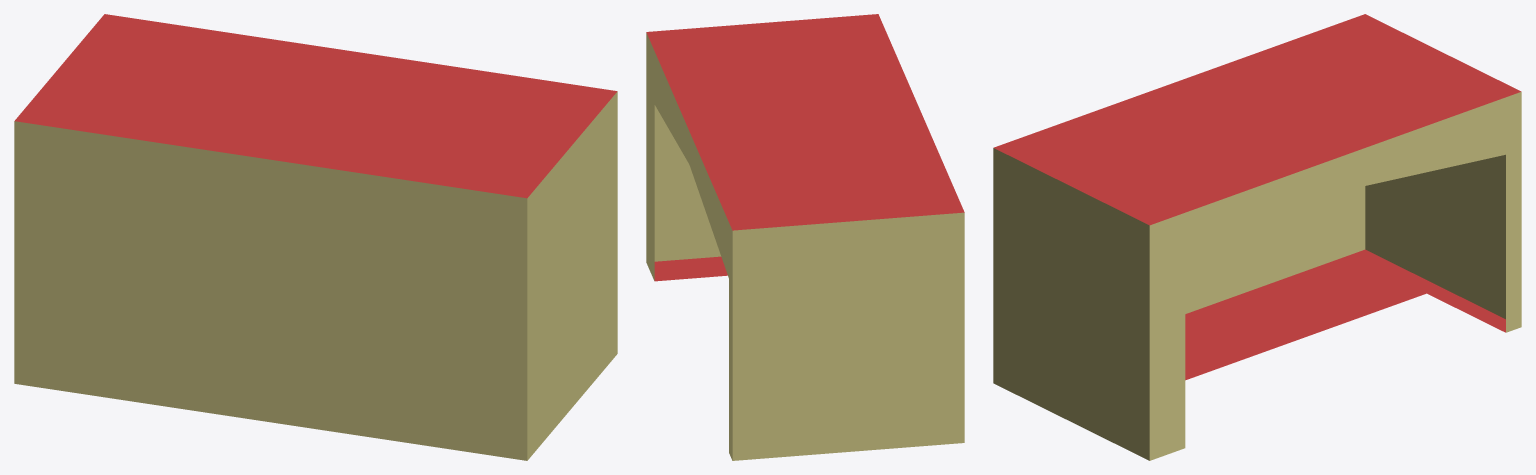
The picture shows the model from 3 angles, left to right: view 1: azimuth 30°, elevation 25°; view 2: azimuth 150°, elevation 25°; view 3: azimuth 270°, elevation 25°; orthographic projection. The views are drawn at different scales.
Bounding box in the file's own units: 24.17 × 25.53 × 12.56.
